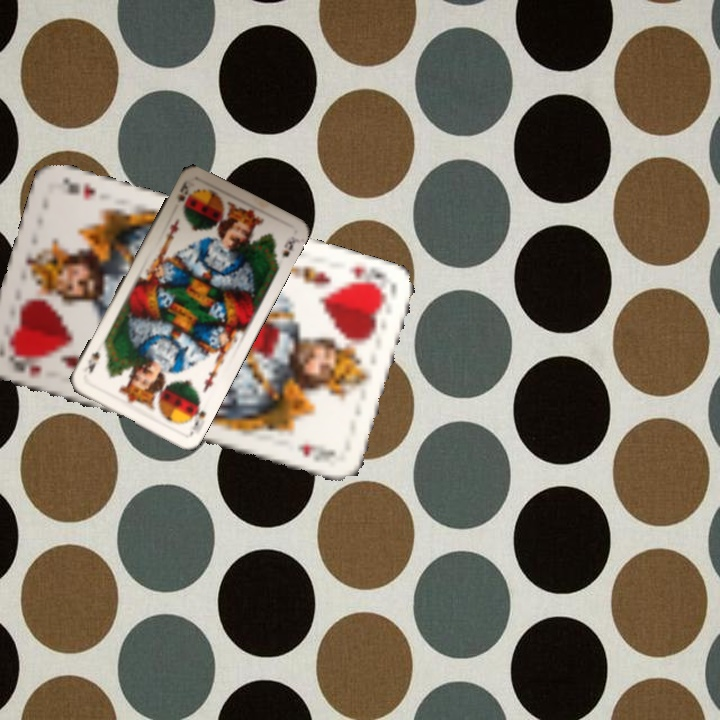HK: (341, 262, 393, 296), (10, 350, 44, 379)
SK: (185, 397, 209, 429), (173, 175, 196, 205)
